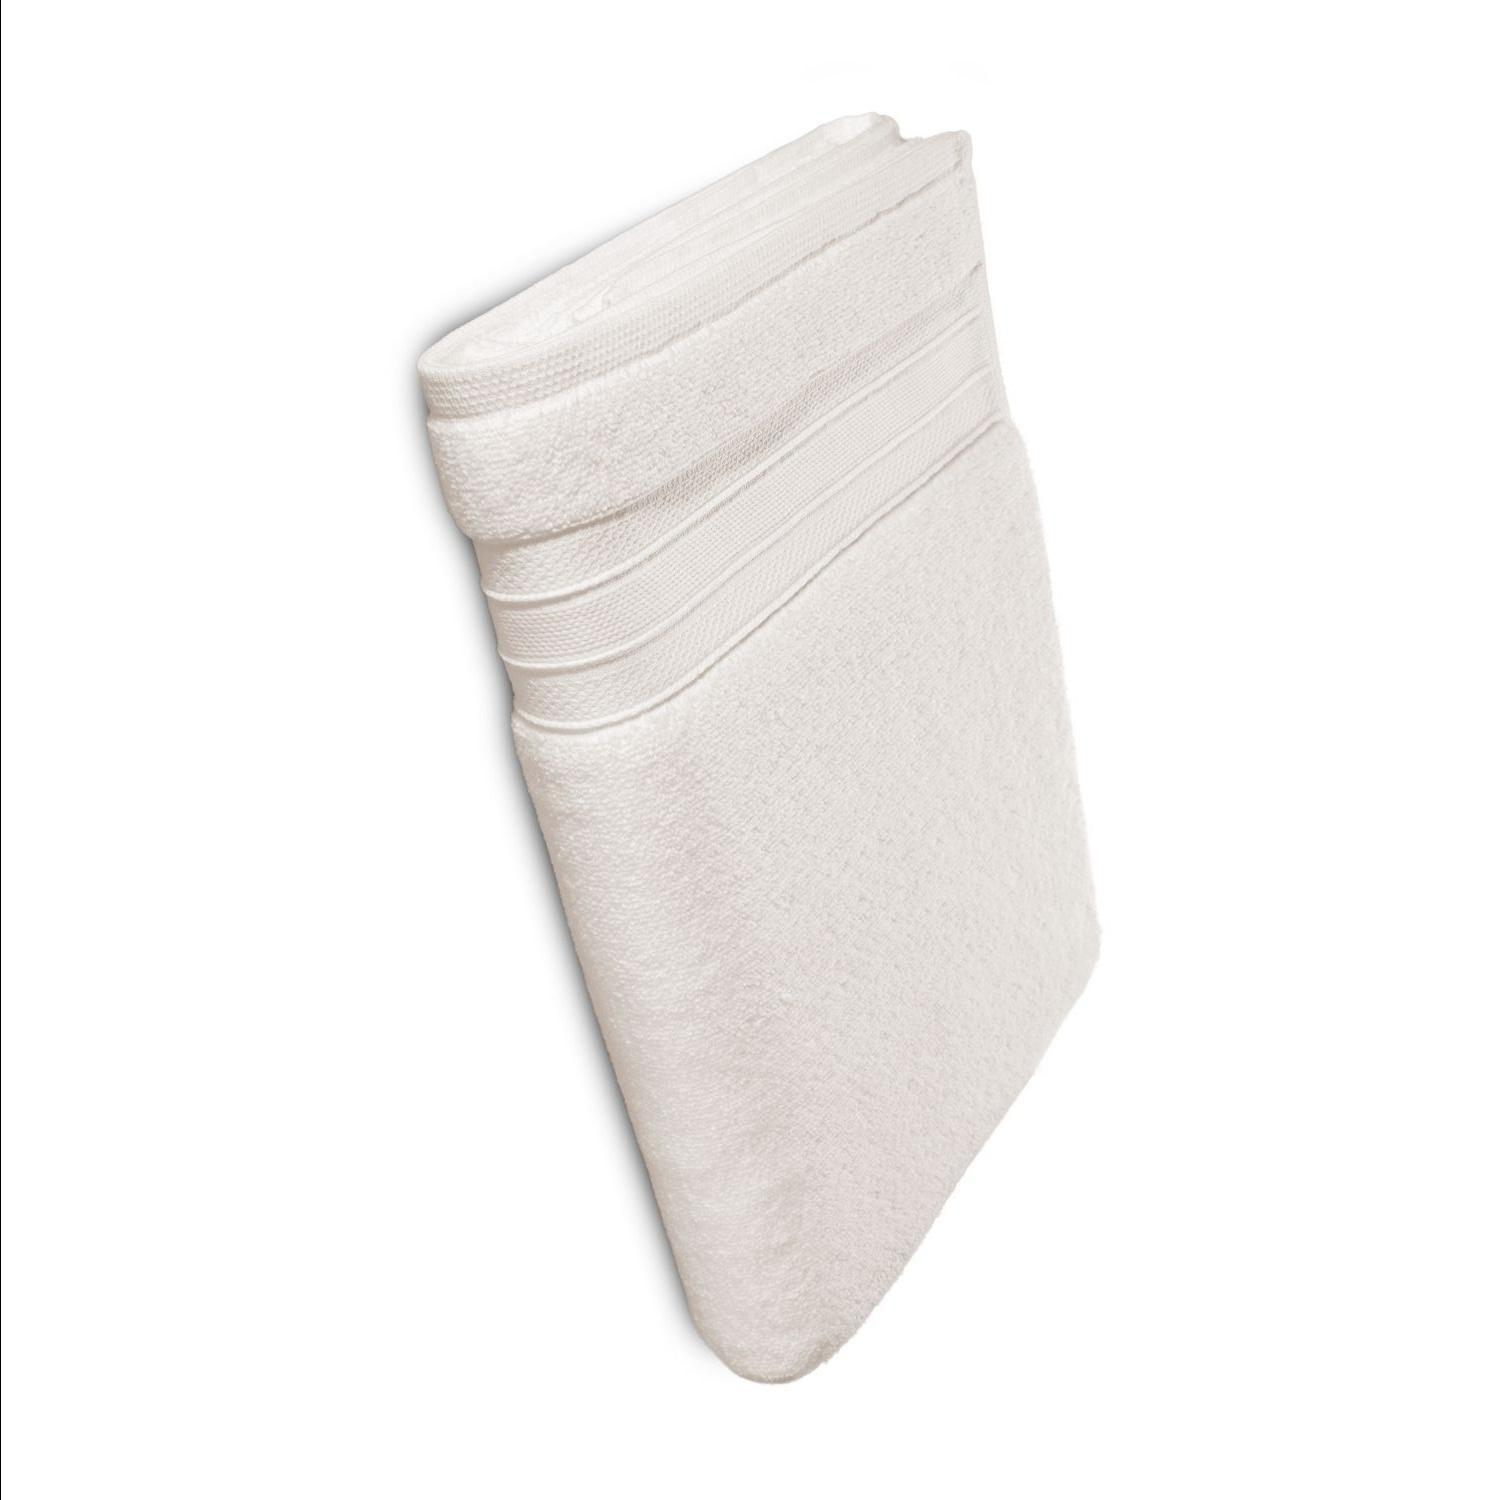towel: (416, 117, 1203, 1370)
